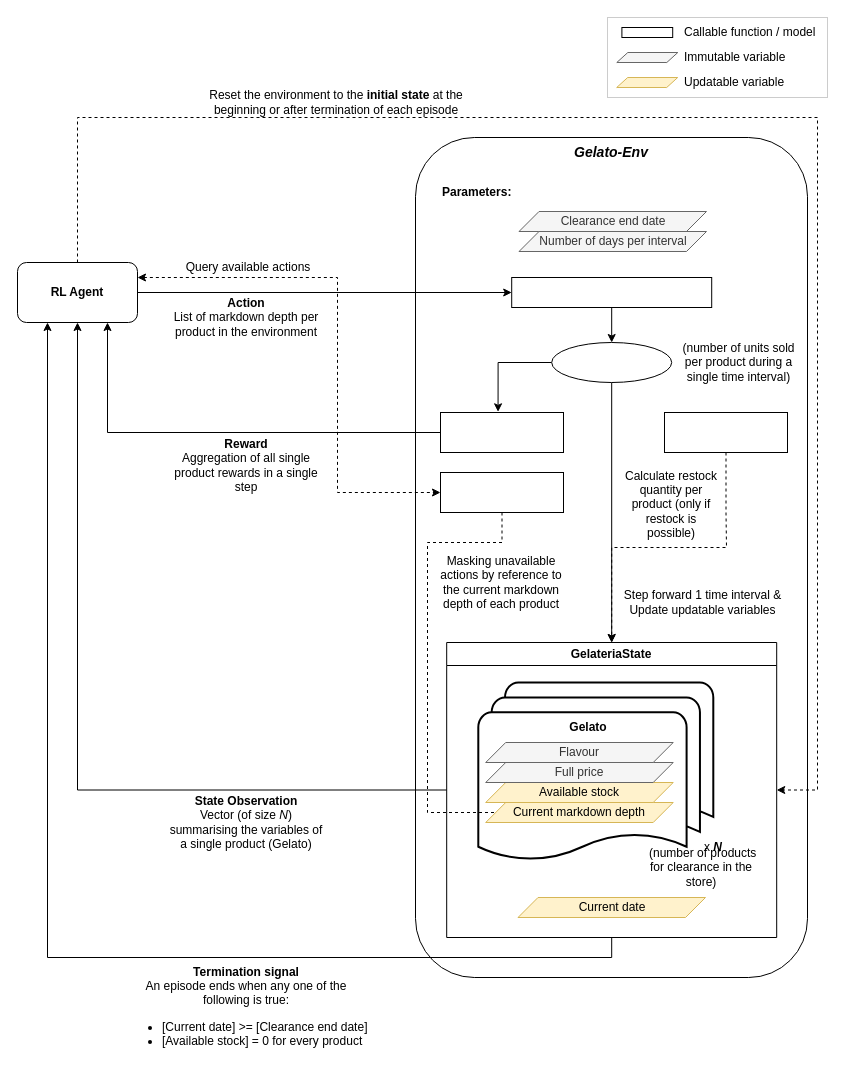
The diagram is 845 pixels wide and 1085 high, and some of its shapes have lost their labels. Each missing label, with the centre of its shape:
"Action Mask Function" goes at (x=502, y=492).
"Restock Function" goes at (x=726, y=432).
"Reward Function" goes at (x=502, y=432).
"Sales" goes at (x=611, y=362).
"Sales Predicton Model" goes at (x=611, y=292).
